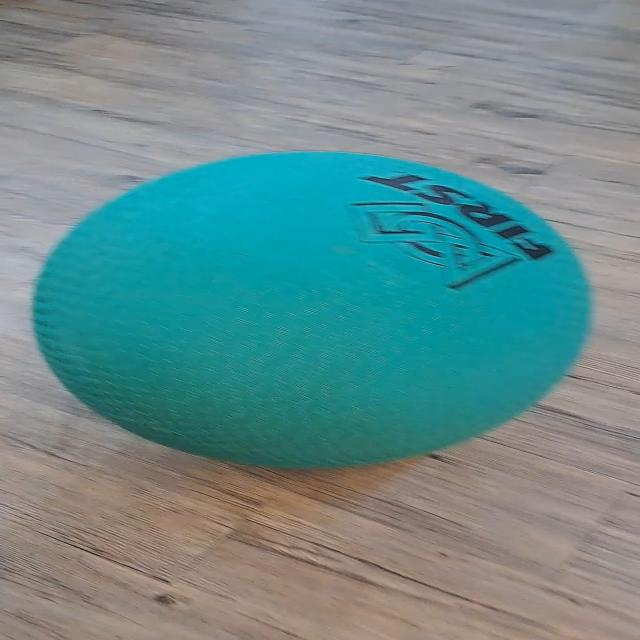ALGAE: (29, 149, 595, 471)
